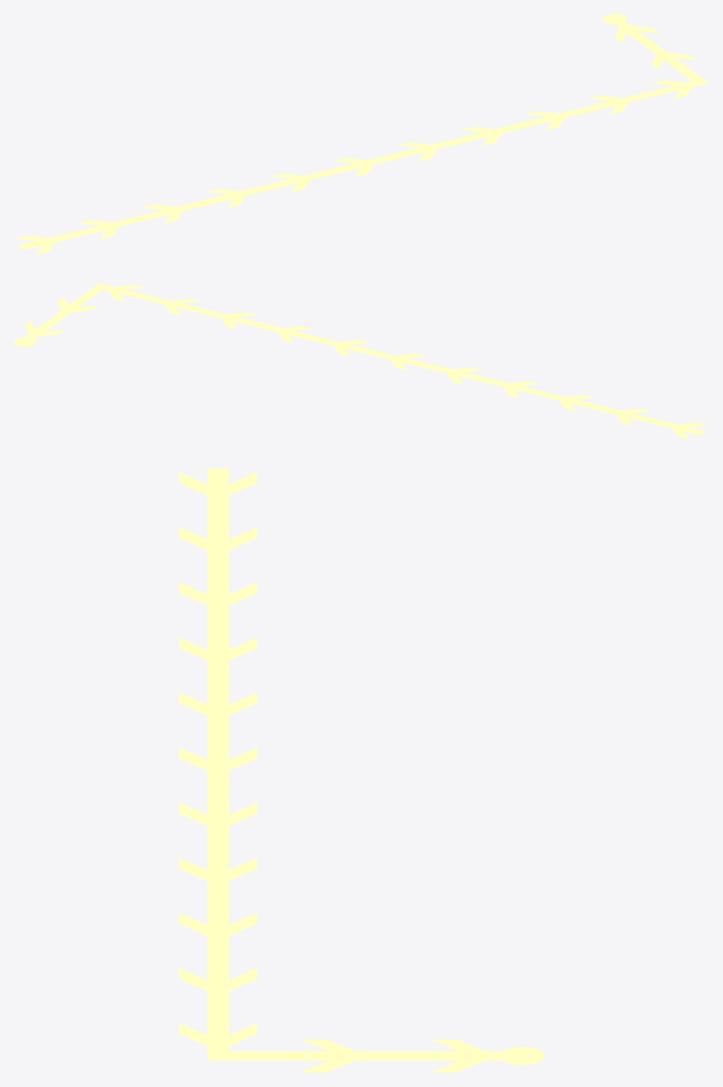
The model's file is Trivia_Machine_Guide_UI.glb.
The picture shows the model from 3 angles, top to bottom: view 1: azimuth 30°, elevation 25°; view 2: azimuth 150°, elevation 25°; view 3: azimuth 270°, elevation 25°; orthographic projection. The views are drawn at different scales.
Visible parts, largest first — view 1: Plane.002; view 2: Plane.002; view 3: Plane.002.
Part boxes in pixels (x1=…): Plane.002: x1=14, y1=14, x2=708, y2=254; Plane.002: x1=14, y1=283, x2=707, y2=439; Plane.002: x1=179, y1=468, x2=543, y2=1072.
Size of the model in its own units: 13.16 by 1.98e-09 by 3.36.
